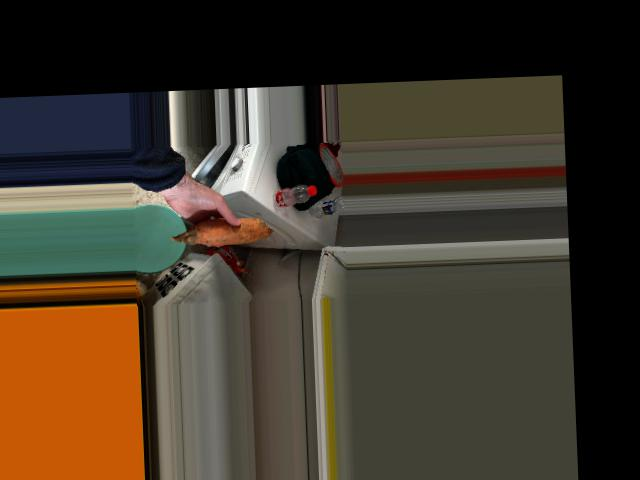sweet_potato: (179, 213, 261, 246)
